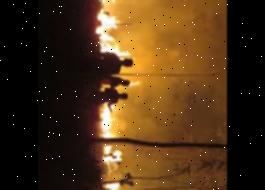fire: (93, 108, 123, 190), (92, 0, 132, 53)
